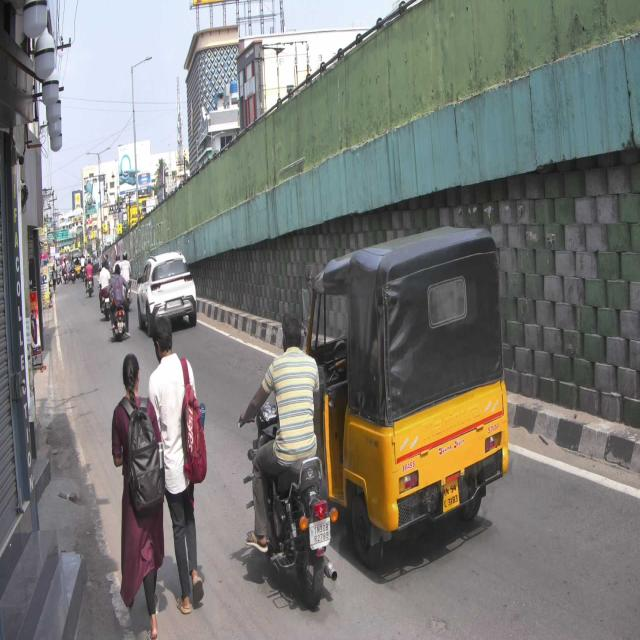single_rider: (236, 310, 340, 608)
